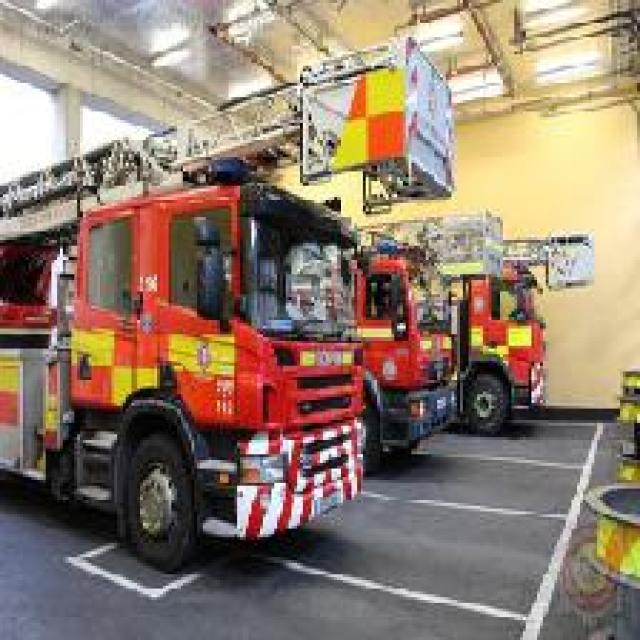Fire-truck: (0, 34, 457, 572)
